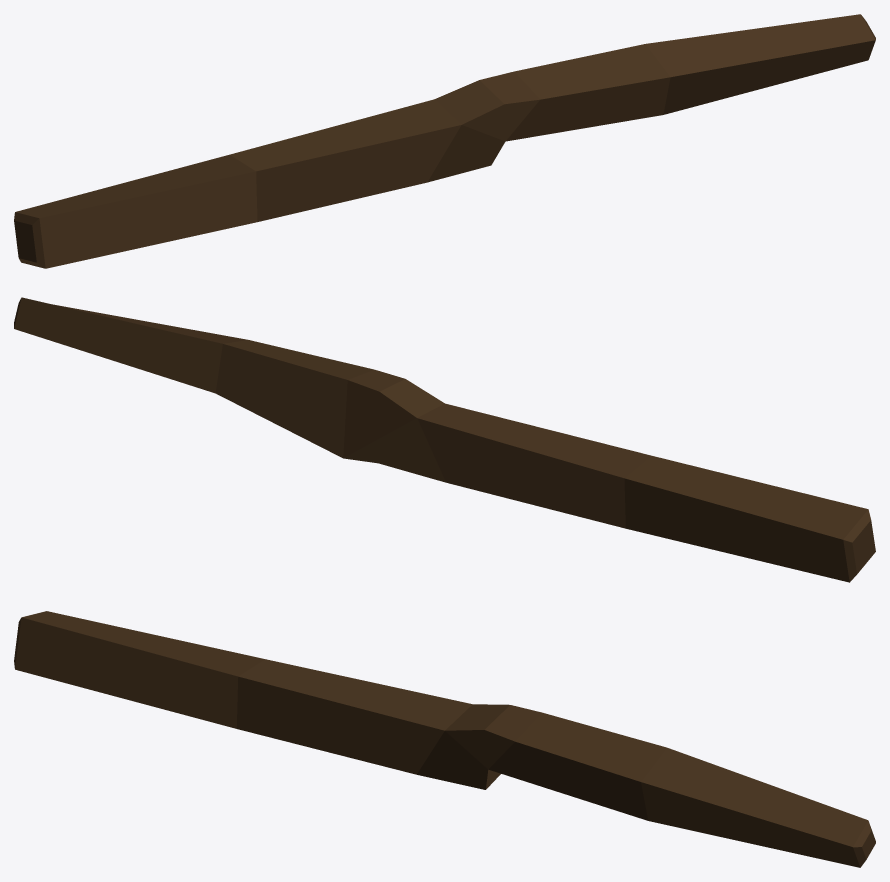
File: palo.obj
The picture shows the model from 3 angles, top to bottom: view 1: azimuth 30°, elevation 25°; view 2: azimuth 150°, elevation 25°; view 3: azimuth 330°, elevation 25°; orthographic projection. The views are drawn at different scales.
Visible parts, largest first — view 1: Cube_Cube.001; view 2: Cube_Cube.001; view 3: Cube_Cube.001.
Part boxes in pixels (left/top/right/bottom): Cube_Cube.001: left=14, top=14, right=875, bottom=268; Cube_Cube.001: left=14, top=297, right=875, bottom=582; Cube_Cube.001: left=14, top=611, right=875, bottom=867.
Bounding box in the file's own units: 8.24 × 0.7094 × 0.6905.
1 material, 1 textured.
